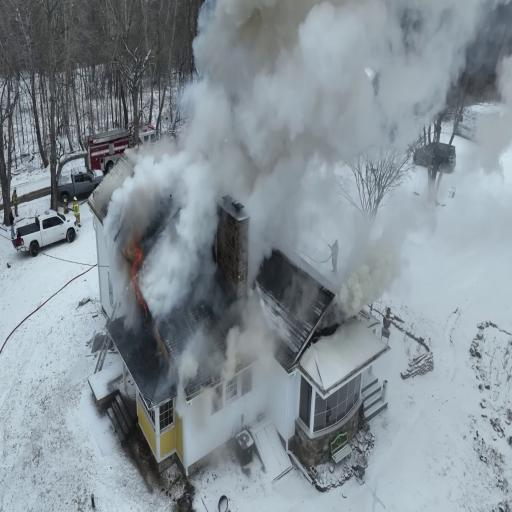smoke: (215, 0, 415, 173)
